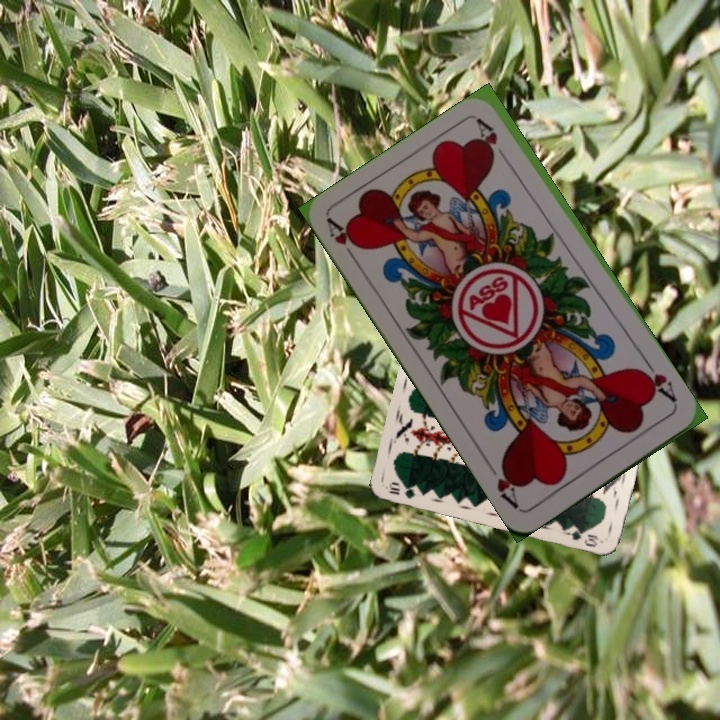G10: (382, 478, 418, 501)
HA: (633, 356, 680, 408), (323, 215, 365, 269)
